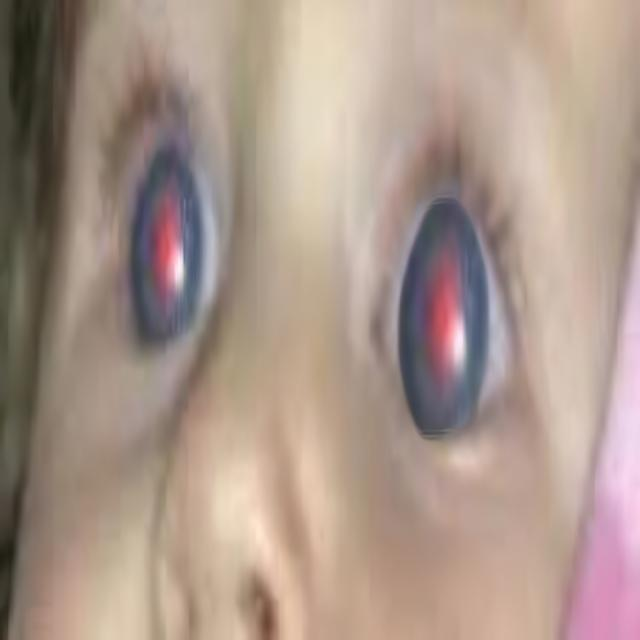reflexo-normal: (391, 114, 528, 532), (90, 42, 228, 412)
